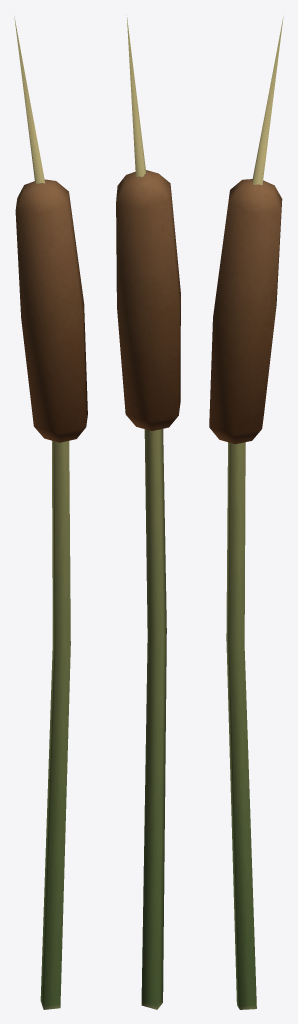
File: Cattail_3.fbx
The picture shows the model from 3 angles, left to right: view 1: azimuth 90°, elevation 25°; view 2: azimuth 150°, elevation 25°; view 3: azimuth 270°, elevation 25°; orthographic projection.
Parts seen in each view (by area): view 1: Sphere.022, Cube.080; view 2: Sphere.022, Cube.080; view 3: Sphere.022, Cube.080.
Part boxes in pixels (x1=…): Sphere.022: x1=15, y1=179, x2=87, y2=442; Cube.080: x1=14, y1=16, x2=70, y2=1009; Sphere.022: x1=116, y1=170, x2=180, y2=430; Cube.080: x1=127, y1=17, x2=166, y2=1009; Sphere.022: x1=209, y1=179, x2=282, y2=444; Cube.080: x1=226, y1=17, x2=283, y2=1009.
Bounding box in the file's own units: 4.55 × 70.27 × 4.76.
